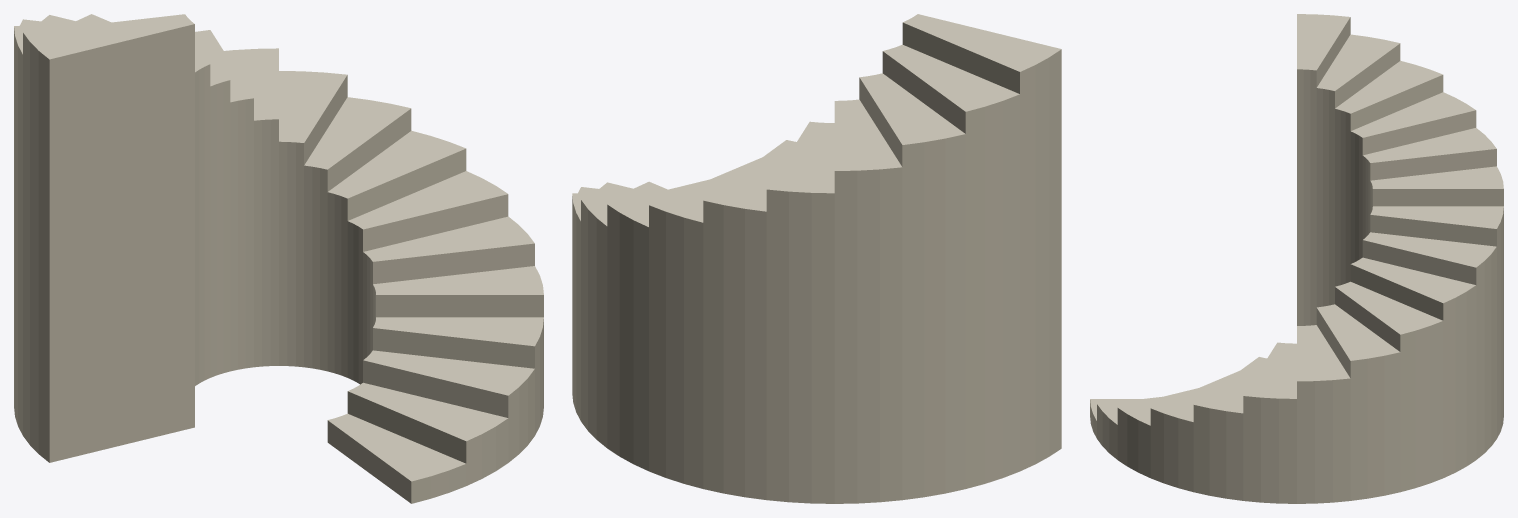
3 renders of one model, left to right at view 1: azimuth 30°, elevation 25°; view 2: azimuth 150°, elevation 25°; view 3: azimuth 270°, elevation 25°, orthographic. The views are drawn at different scales.
Parts seen in each view (by area): view 1: WholeOpenCenterThreeQuarterWindingStoneStair; view 2: WholeOpenCenterThreeQuarterWindingStoneStair; view 3: WholeOpenCenterThreeQuarterWindingStoneStair.
Boxes of the visible parts, <box> form: WholeOpenCenterThreeQuarterWindingStoneStair: <box>14,14,543,503</box>; WholeOpenCenterThreeQuarterWindingStoneStair: <box>572,14,1061,503</box>; WholeOpenCenterThreeQuarterWindingStoneStair: <box>1090,14,1503,503</box>.
Bounding box in the file's own units: 3 × 2.52 × 3.
